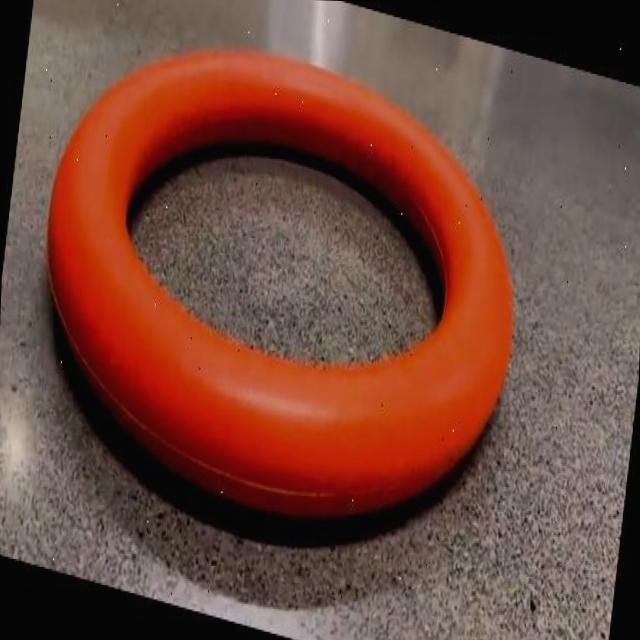note: (46, 49, 512, 516)
